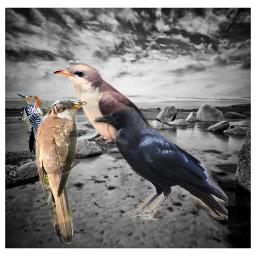Crow: (93, 106, 228, 220)
Cuckoo: (53, 64, 164, 150), (35, 100, 87, 244)
Woodpecker: (12, 94, 43, 155)
